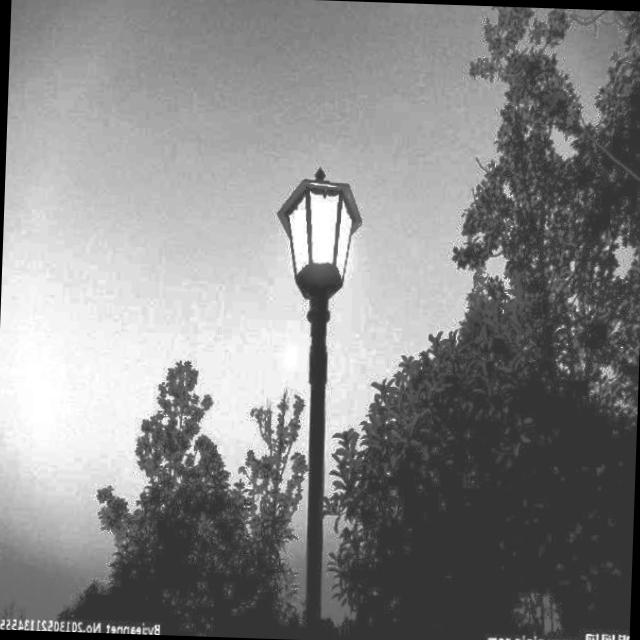Light: (285, 186, 350, 285)
